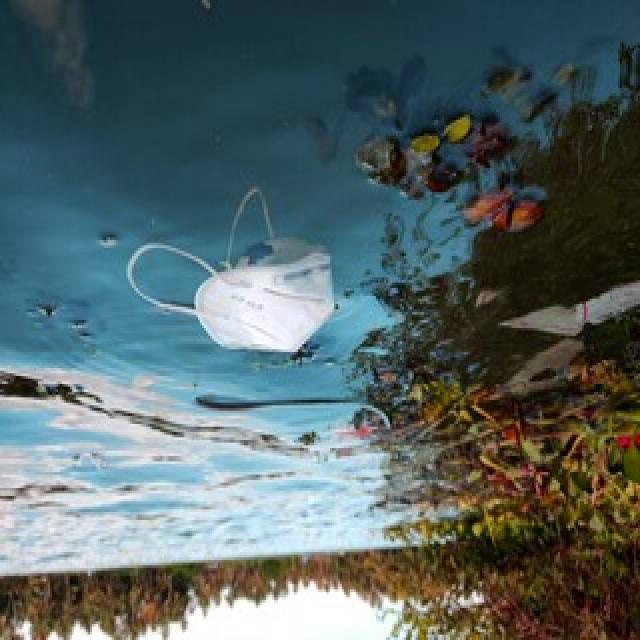Trash: (127, 185, 342, 357)
